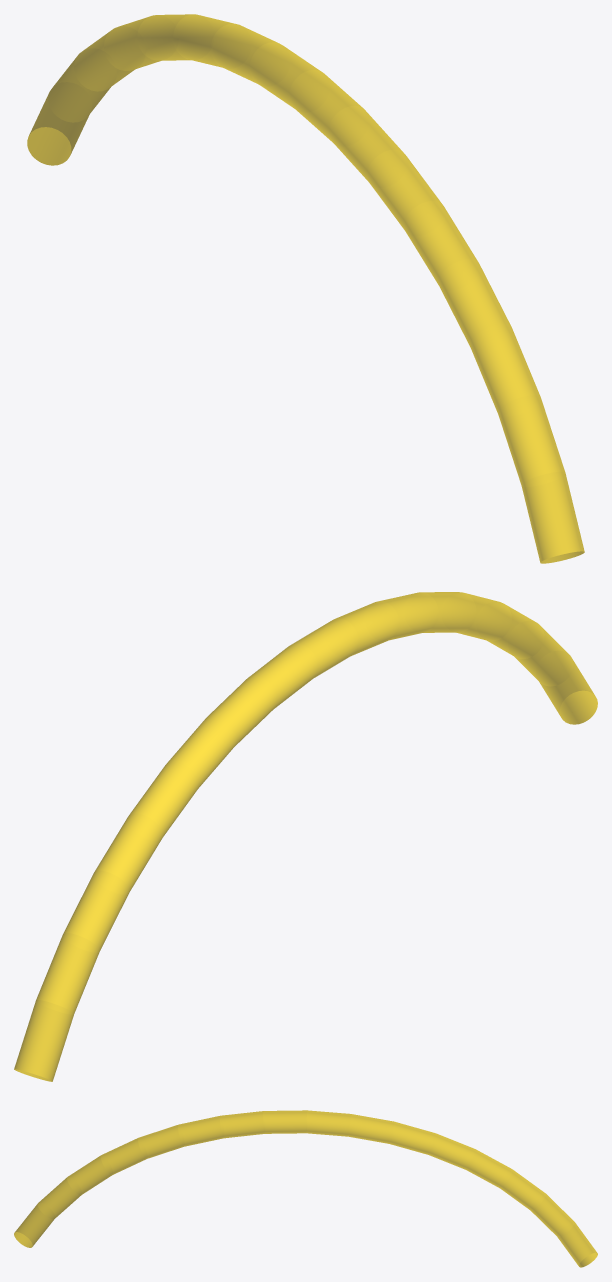
File: Event_419990632_track_53.fbx
3 views of the same model, one above another, from view 1: azimuth 30°, elevation 25°; view 2: azimuth 150°, elevation 25°; view 3: azimuth 270°, elevation 25° (orthographic). The views are drawn at different scales.
Visible parts, largest first — view 1: Model; view 2: Model; view 3: Model.
Boxes of the visible parts, x1,y1,x2,y2 form: Model: [27, 14, 584, 563]; Model: [14, 592, 597, 1081]; Model: [14, 1110, 597, 1267].
Bounding box in the file's own units: 0.0919 × 0.2865 × 1.02.
